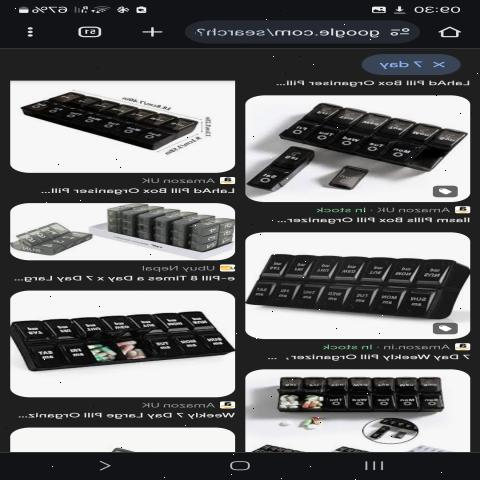PillBox: (240, 244, 471, 330), (18, 77, 216, 166), (22, 307, 227, 381), (275, 99, 471, 176), (255, 368, 458, 422)
